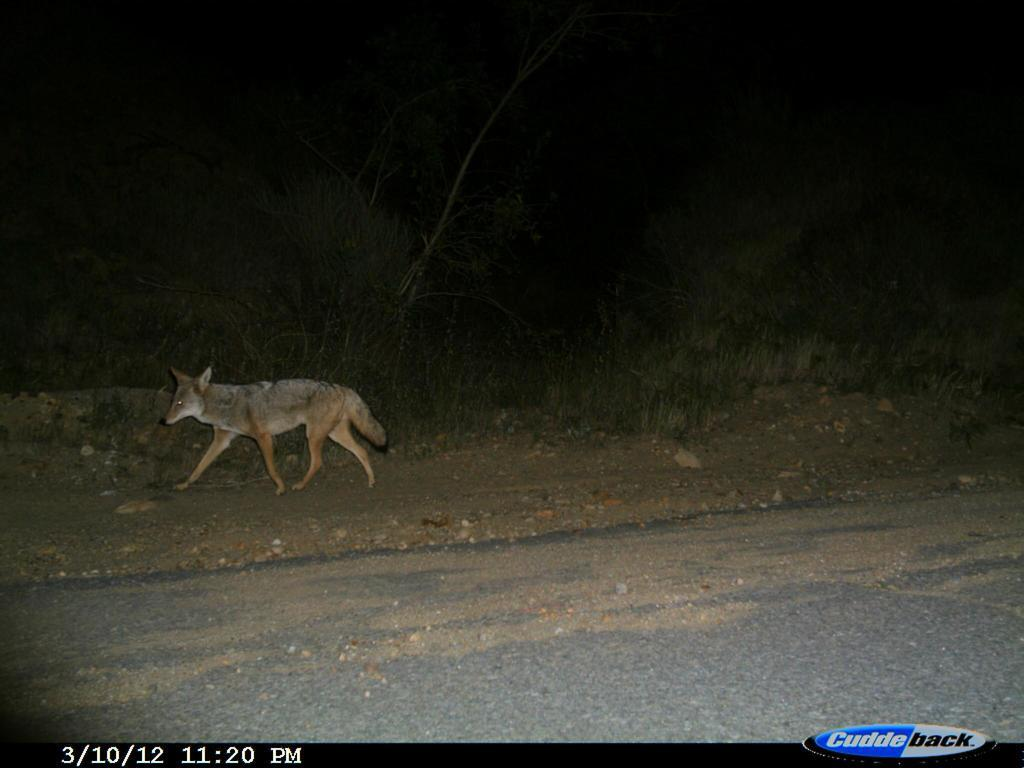coyote: (158, 363, 396, 496)
